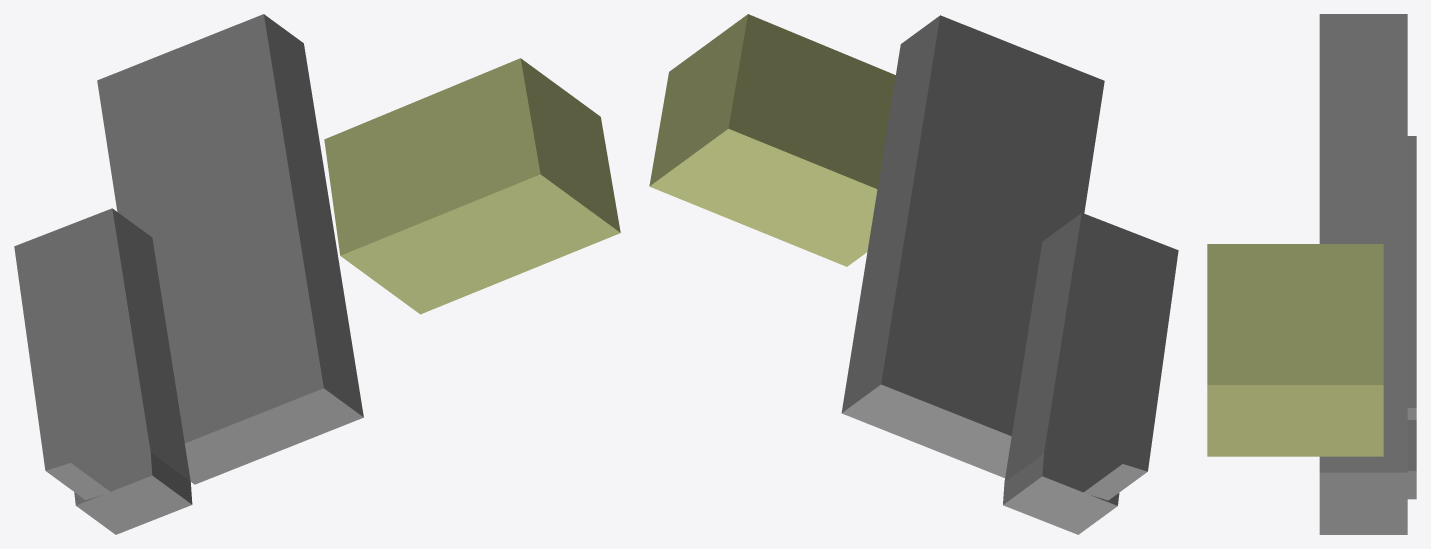
The picture shows the model from 3 angles, left to right: view 1: azimuth 30°, elevation 25°; view 2: azimuth 150°, elevation 25°; view 3: azimuth 270°, elevation 25°; orthographic projection. The views are drawn at different scales.
Visible parts, largest first — view 1: 0_1_2_0_3_1_3_1_3; view 2: 0_1_2_0_3_1_3_1_3; view 3: 0_1_2_0_3_1_3_1_3.
Boxes of the visible parts, x1,y1,x2,y2 form: 0_1_2_0_3_1_3_1_3: (14,14,620,534); 0_1_2_0_3_1_3_1_3: (649,14,1178,534); 0_1_2_0_3_1_3_1_3: (1207,14,1416,534).
Bounding box in the file's own units: 22.1 × 18.57 × 7.12.
